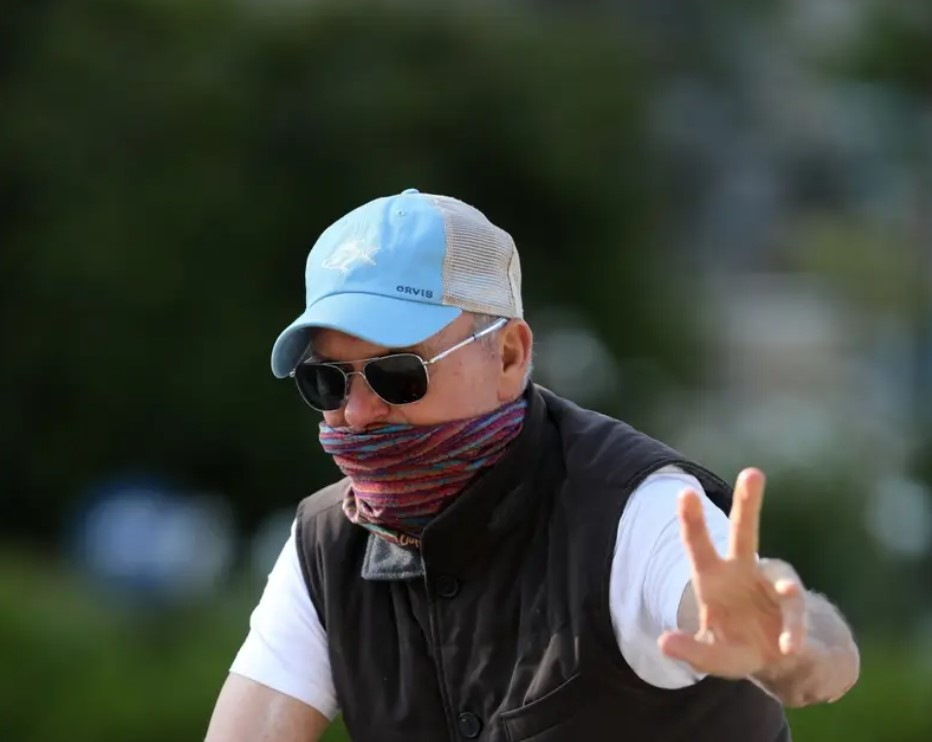face_with_mask: (294, 222, 542, 523)
